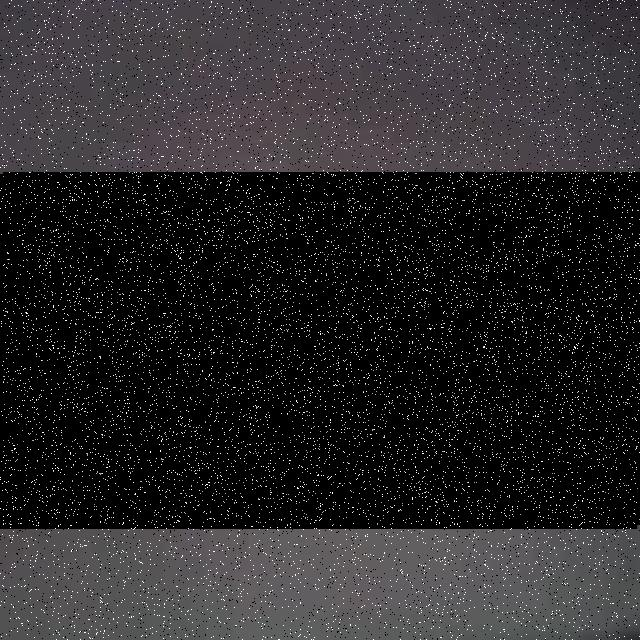dua ribu rupiah: (3, 172, 640, 525)
